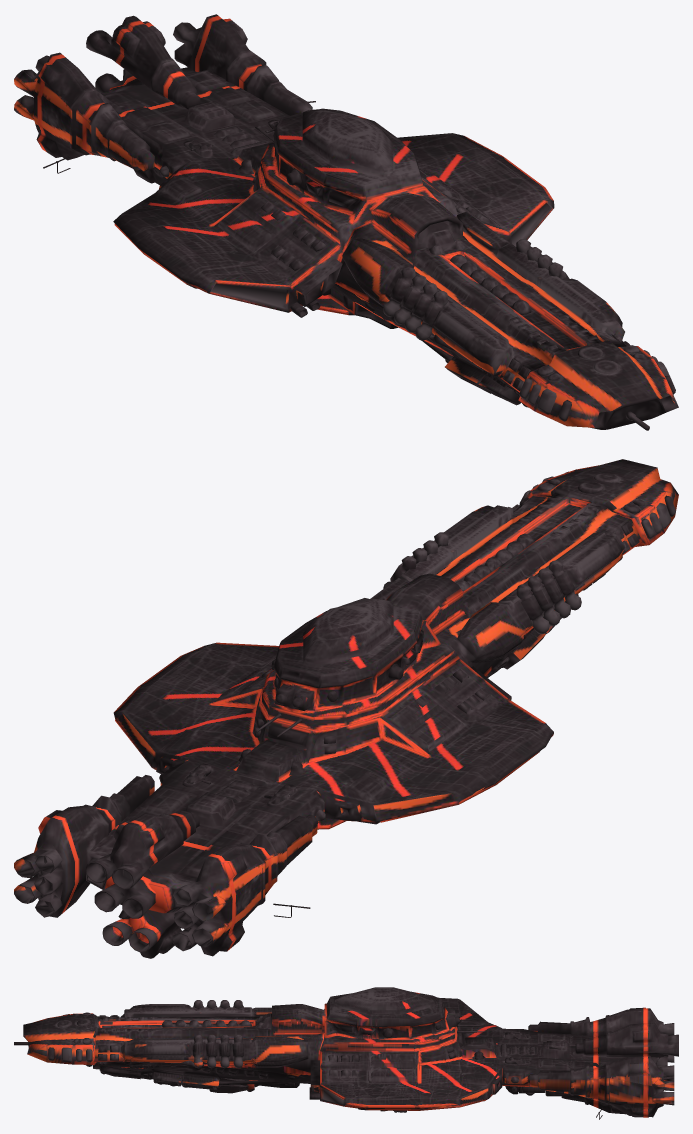
Rendered from ipc_sid_desktop.glb.
The picture shows the model from 3 angles, top to bottom: view 1: azimuth 30°, elevation 25°; view 2: azimuth 150°, elevation 25°; view 3: azimuth 270°, elevation 25°; orthographic projection. The views are drawn at different scales.
Parts seen in each view (by area): view 1: IPC_SID; view 2: IPC_SID; view 3: IPC_SID.
Part boxes in pixels (x1,y1,x2,y2): IPC_SID: (14,14,678,430); IPC_SID: (14,459,678,958); IPC_SID: (14,987,678,1119).
Bounding box in the file's own units: 9.43 × 4.79 × 24.
Materials: 1 (1 with a texture image).
